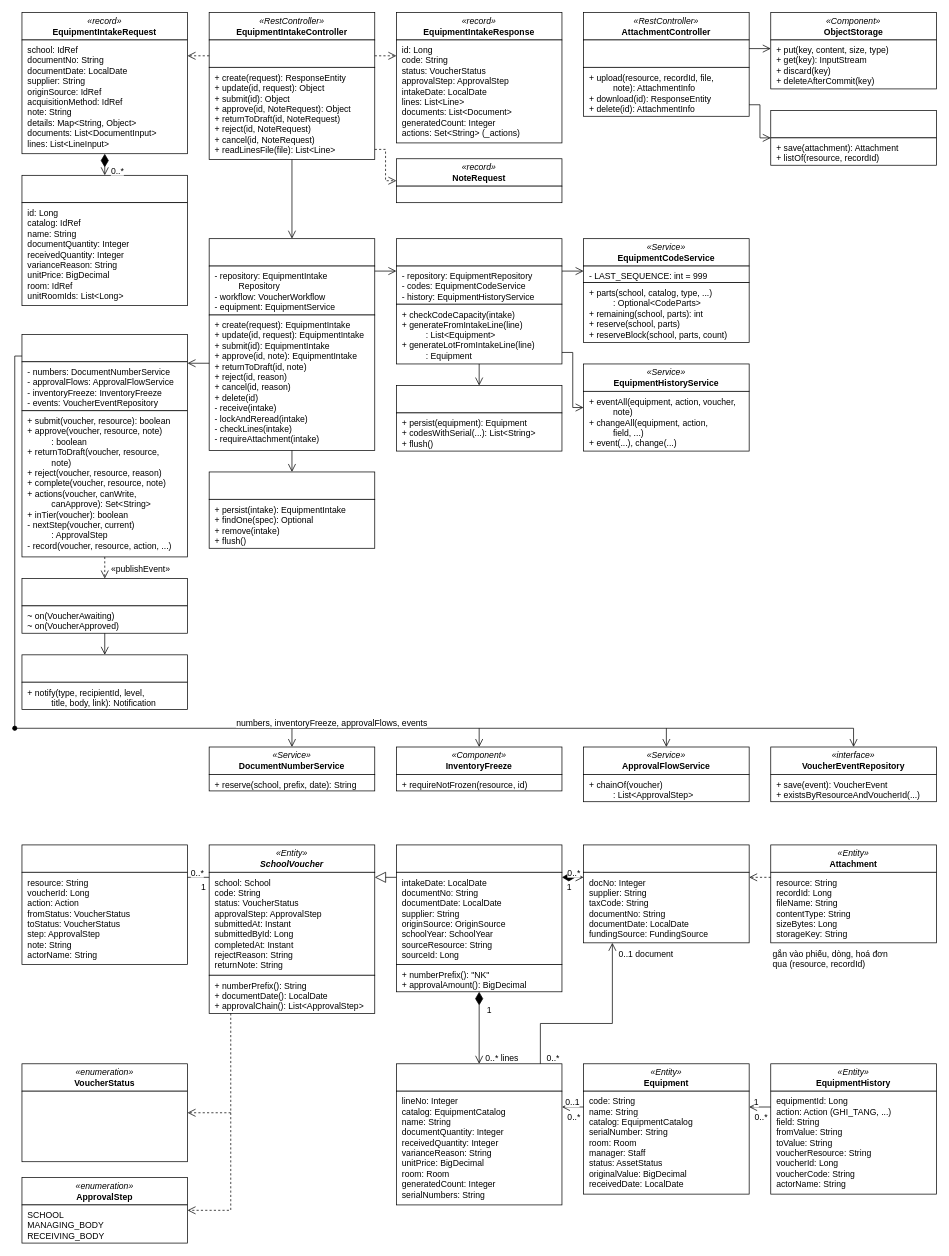
The diagram is 949 pixels wide and 1256 high, and some of its shapes have lost their labels. Each missing label, with the box of its shape:
- service: EquipmentIntakeService - rowLevel: RowLevelSecurity: (208, 39, 375, 67)
- storage: ObjectStorage - repository: AttachmentRepository: (583, 39, 749, 67)
DRAFT PENDING APPROVED COMPLETED REJECTED CANCELLED: (21, 1090, 188, 1162)
note: String: (396, 185, 562, 203)
«Component» VoucherProgressNotifier: (21, 578, 188, 606)
«Component» VoucherWorkflow: (21, 334, 188, 362)
«Entity» EquipmentIntake: (396, 844, 562, 872)
«Entity» EquipmentIntakeDocument: (583, 844, 749, 872)
«Entity» EquipmentIntakeLine: (396, 1063, 562, 1091)
«Entity» VoucherEvent: (21, 844, 188, 872)
«interface» AttachmentRepository: (770, 110, 936, 138)
«interface» EquipmentIntakeRepository: (208, 471, 375, 499)
«interface» EquipmentRepository: (396, 385, 562, 413)
«record» EquipmentIntakeLineInput: (21, 175, 188, 203)
«Service» EquipmentIntakeService: (208, 238, 375, 266)
«Service» EquipmentService: (396, 238, 562, 266)
«Service» NotificationService: (21, 654, 188, 682)
